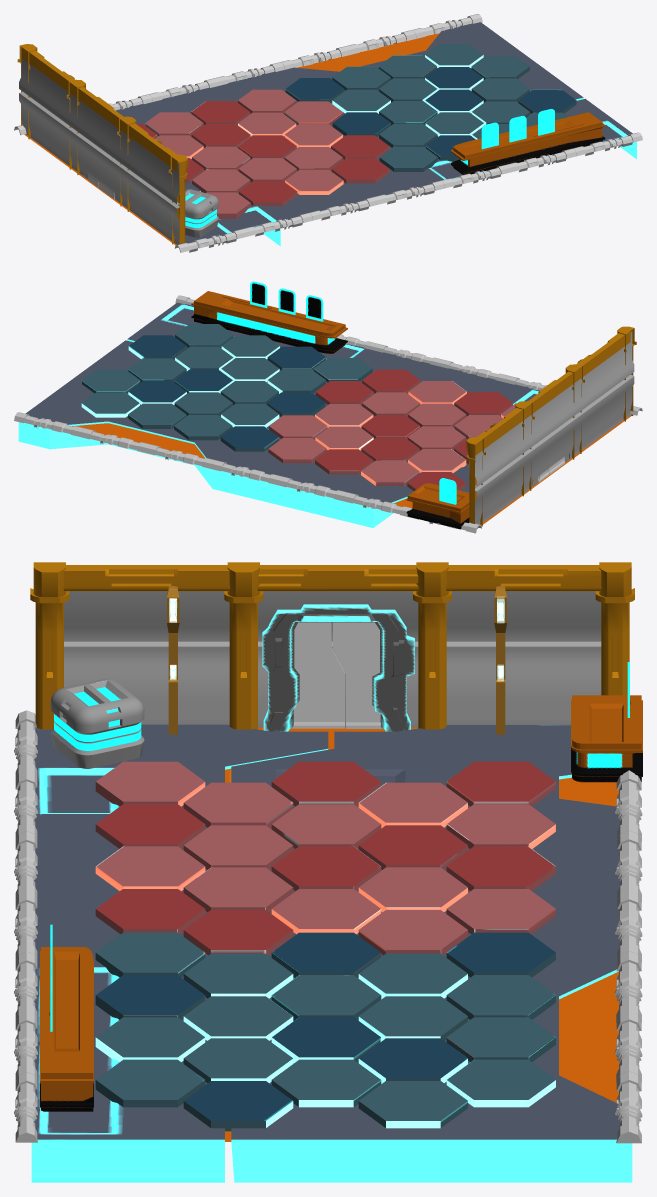
File: Arena.fbx
The picture shows the model from 3 angles, top to bottom: view 1: azimuth 30°, elevation 25°; view 2: azimuth 150°, elevation 25°; view 3: azimuth 270°, elevation 25°; orthographic projection. The views are drawn at different scales.
Parts seen in each view (by area): view 1: PLAN, door, pipe.001, monitor, box; view 2: PLAN, door, monitor, pipe.001; view 3: PLAN, door, pipe.001, monitor, box.
Boxes of the visible parts, bbox=[...] form: PLAN: bbox=[24, 22, 636, 245]; door: bbox=[17, 44, 188, 244]; pipe.001: bbox=[14, 14, 642, 252]; monitor: bbox=[451, 109, 605, 174]; box: bbox=[185, 189, 218, 237]; PLAN: bbox=[18, 302, 631, 528]; door: bbox=[466, 326, 636, 526]; monitor: bbox=[191, 281, 469, 529]; pipe.001: bbox=[14, 295, 642, 533]; PLAN: bbox=[31, 724, 632, 1182]; door: bbox=[30, 562, 634, 734]; pipe.001: bbox=[14, 710, 642, 1143]; monitor: bbox=[40, 662, 642, 1111]; box: bbox=[50, 678, 144, 768].
Size of what is drawn, in the model's own units: 2001 by 447 by 1258.
